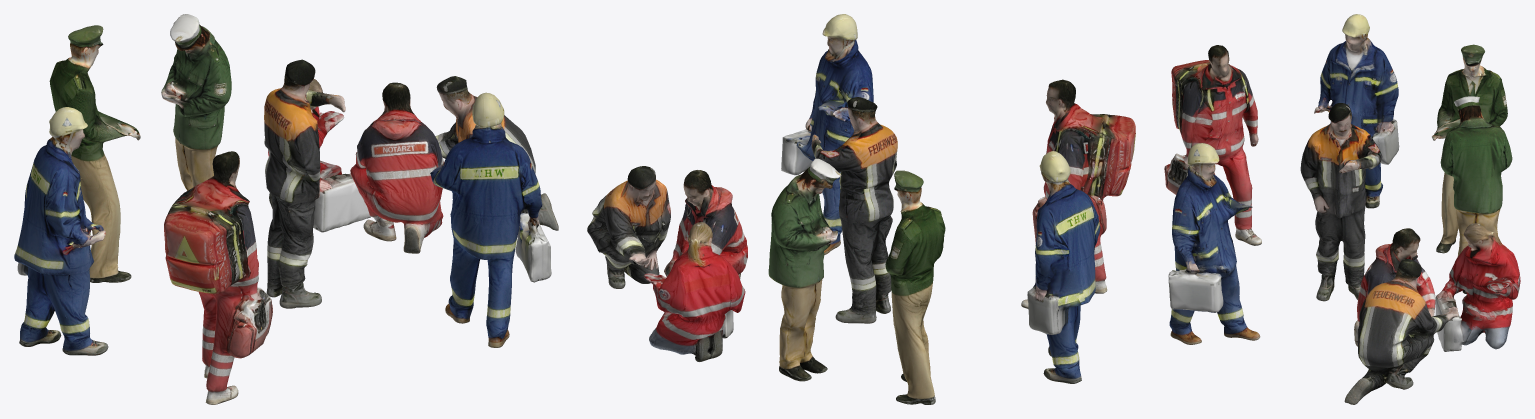
3 renders of one model, left to right at view 1: azimuth 30°, elevation 25°; view 2: azimuth 150°, elevation 25°; view 3: azimuth 270°, elevation 25°, orthographic. The views are drawn at different scales.
Visible parts, largest first — view 1: 静止人042ok (×9); view 2: 静止人042ok (×9); view 3: 静止人042ok (×9).
Part boxes in pixels (x1,y1,x2,y2): 静止人042ok (×9): (14,14,558,404); 静止人042ok (×9): (587,14,1135,404); 静止人042ok (×9): (1164,14,1520,404).
Size of the model in its own units: 427 by 186 by 300.
